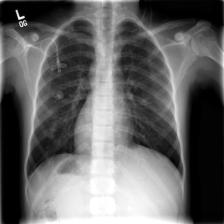normal: (24, 16, 187, 192)
